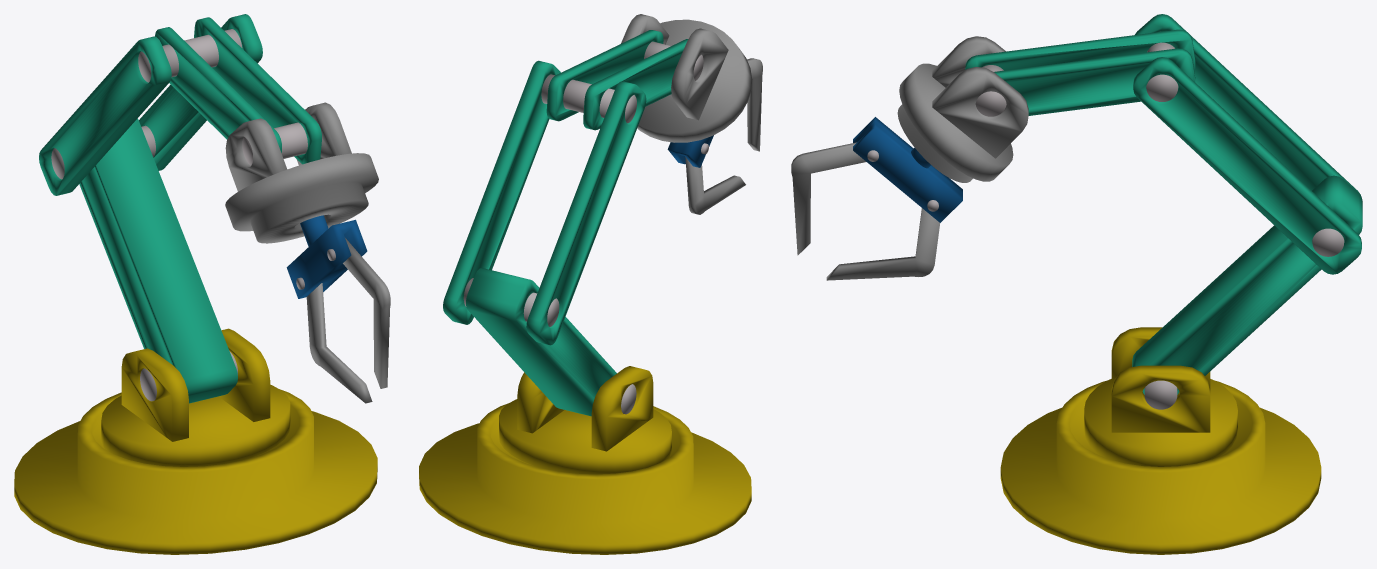
Rendered from Robotik arm.glb.
The picture shows the model from 3 angles, left to right: view 1: azimuth 30°, elevation 25°; view 2: azimuth 150°, elevation 25°; view 3: azimuth 270°, elevation 25°; orthographic projection. The views are drawn at different scales.
Parts seen in each view (by area): view 1: Braço_Base_Fixa, Braço_Base_Rotativa, Braço_Base_Fixa.001, Braço_Pulso_Rotativo, Braço_Segmento_01, BRACO E COTOVELO, curva garra, Garra_Dedo_Dir, Garra_Dedo_Esq, Braço_Junta_Cotovelo.001, Braço_Junta_Cotovelo.002, Braço_Segmento_01.001 (+1 smaller); view 2: Braço_Base_Fixa, Braço_Segmento_01, Braço_Base_Fixa.001, Braço_Pulso_Rotativo, Braço_Base_Rotativa, BRACO E COTOVELO, Garra_Dedo_Esq, Braço_Junta_Cotovelo.001, Garra_Dedo_Dir, curva garra, Braço_Segmento_01.001, Braço_Junta_Cotovelo.002; view 3: Braço_Base_Fixa, Braço_Segmento_01, Braço_Base_Fixa.001, Braço_Base_Rotativa, Braço_Pulso_Rotativo, BRACO E COTOVELO, curva garra, Garra_Dedo_Esq, Garra_Dedo_Dir, Braço_Junta_Cotovelo.001, Braço_Base_Rotativa.001, Braço_Segmento_01.001 (+1 smaller).
Boxes of the visible parts, x1=… form: Braço_Base_Fixa: x1=14, y1=389, x2=377, y2=554; Braço_Base_Rotativa: x1=79, y1=118, x2=237, y2=403; Braço_Base_Fixa.001: x1=101, y1=328, x2=290, y2=466; Braço_Pulso_Rotativo: x1=225, y1=102, x2=378, y2=243; Braço_Segmento_01: x1=39, y1=14, x2=262, y2=195; BRACO E COTOVELO: x1=155, y1=17, x2=321, y2=164; curva garra: x1=286, y1=215, x2=367, y2=298; Garra_Dedo_Dir: x1=343, y1=238, x2=390, y2=388; Garra_Dedo_Esq: x1=306, y1=283, x2=372, y2=403; Braço_Junta_Cotovelo.001: x1=138, y1=29, x2=242, y2=82; Braço_Junta_Cotovelo.002: x1=242, y1=122, x2=307, y2=165; Braço_Segmento_01.001: x1=51, y1=125, x2=155, y2=179; Braço_Base_Fixa: x1=419, y1=403, x2=751, y2=554; Braço_Segmento_01: x1=443, y1=60, x2=646, y2=345; Braço_Base_Fixa.001: x1=499, y1=366, x2=671, y2=474; Braço_Pulso_Rotativo: x1=621, y1=14, x2=752, y2=142; Braço_Base_Rotativa: x1=466, y1=268, x2=616, y2=416; BRACO E COTOVELO: x1=546, y1=30, x2=688, y2=130; Garra_Dedo_Esq: x1=685, y1=157, x2=745, y2=214; Braço_Junta_Cotovelo.001: x1=541, y1=74, x2=636, y2=123; Garra_Dedo_Dir: x1=747, y1=58, x2=762, y2=151; curva garra: x1=667, y1=135, x2=713, y2=167; Braço_Segmento_01.001: x1=463, y1=278, x2=559, y2=326; Braço_Junta_Cotovelo.002: x1=644, y1=41, x2=703, y2=80; Braço_Base_Fixa: x1=1000, y1=381, x2=1321, y2=554; Braço_Segmento_01: x1=1133, y1=14, x2=1361, y2=274; Braço_Base_Fixa.001: x1=1084, y1=327, x2=1237, y2=466; Braço_Base_Rotativa: x1=1132, y1=175, x2=1362, y2=394; Braço_Pulso_Rotativo: x1=897, y1=36, x2=1028, y2=182; BRACO E COTOVELO: x1=965, y1=29, x2=1195, y2=115; curva garra: x1=853, y1=117, x2=962, y2=222; Garra_Dedo_Esq: x1=826, y1=208, x2=940, y2=280; Garra_Dedo_Dir: x1=791, y1=142, x2=865, y2=255; Braço_Junta_Cotovelo.001: x1=1146, y1=42, x2=1178, y2=101; Braço_Base_Rotativa.001: x1=1144, y1=380, x2=1177, y2=409; Braço_Segmento_01.001: x1=1312, y1=228, x2=1344, y2=256.
Size of the model in its own units: 4.46 by 5.97 by 7.03.
